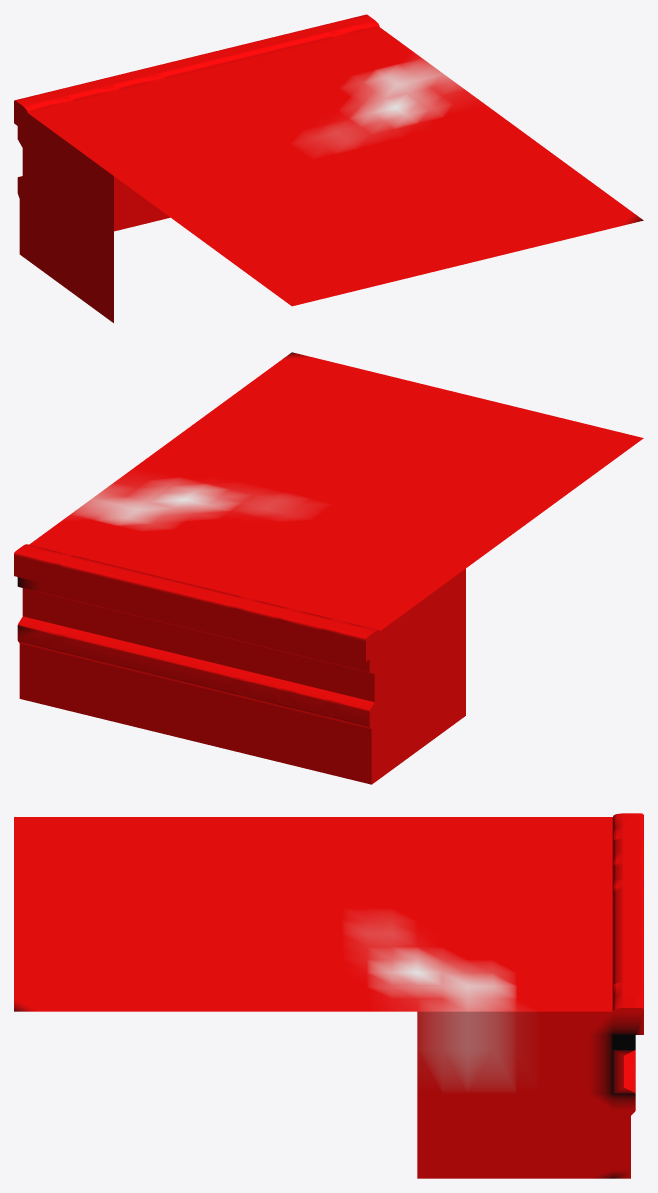
3 views of the same model, one above another, from view 1: azimuth 30°, elevation 25°; view 2: azimuth 150°, elevation 25°; view 3: azimuth 270°, elevation 25° (orthographic). The views are drawn at different scales.
Visible parts, largest first — view 1: SM_Floor_Platform_02_LOD0; view 2: SM_Floor_Platform_02_LOD0; view 3: SM_Floor_Platform_02_LOD0.
Boxes of the visible parts, x1,y1,x2,y2 form: SM_Floor_Platform_02_LOD0: (14, 14, 643, 322); SM_Floor_Platform_02_LOD0: (14, 352, 643, 784); SM_Floor_Platform_02_LOD0: (14, 813, 643, 1178).
Bounding box in the file's own units: 500 × 684 × 205.
